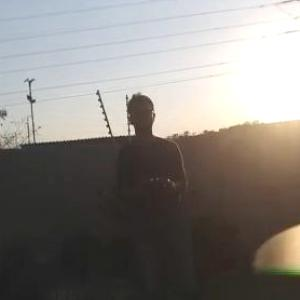follow: (113, 88, 192, 299)
